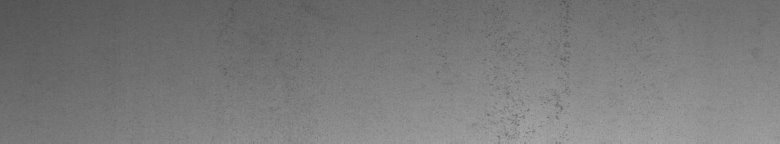ib: (497, 42, 570, 133)
